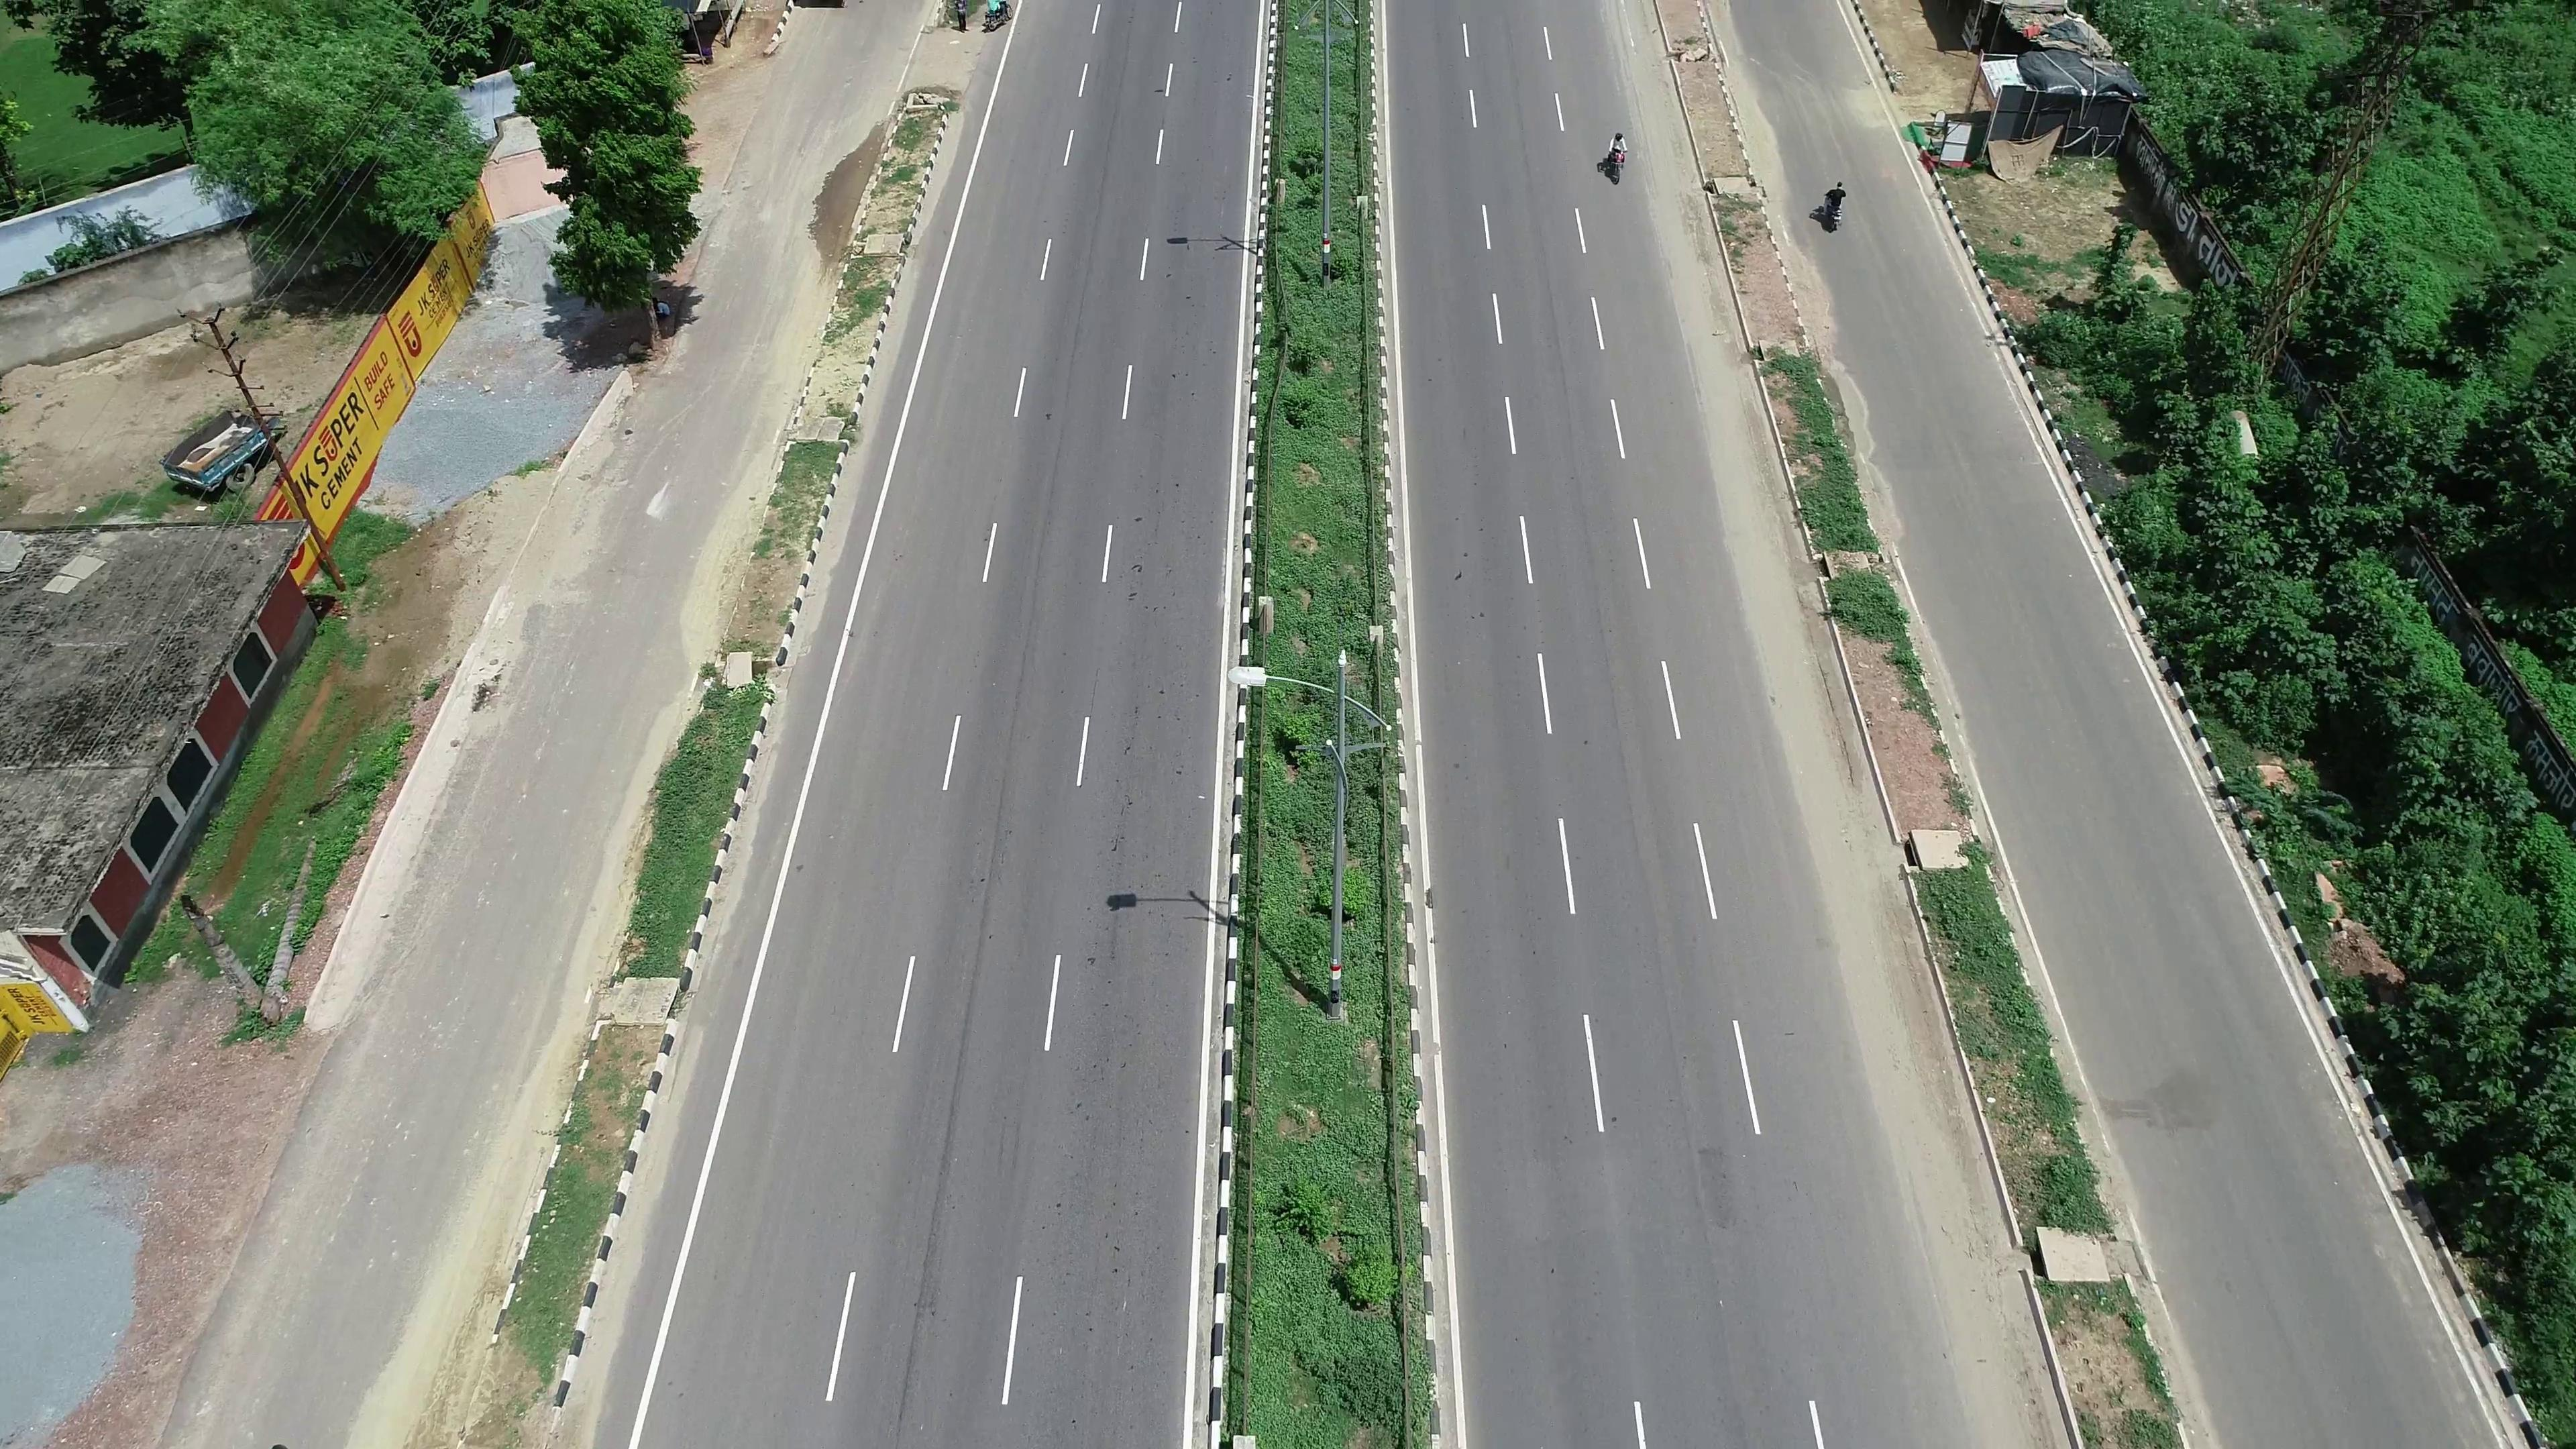Muddy_road: (1856, 943, 1987, 1223), (1750, 632, 1870, 883), (1652, 205, 1748, 437), (1944, 1267, 2040, 1440), (1725, 439, 1805, 635)
